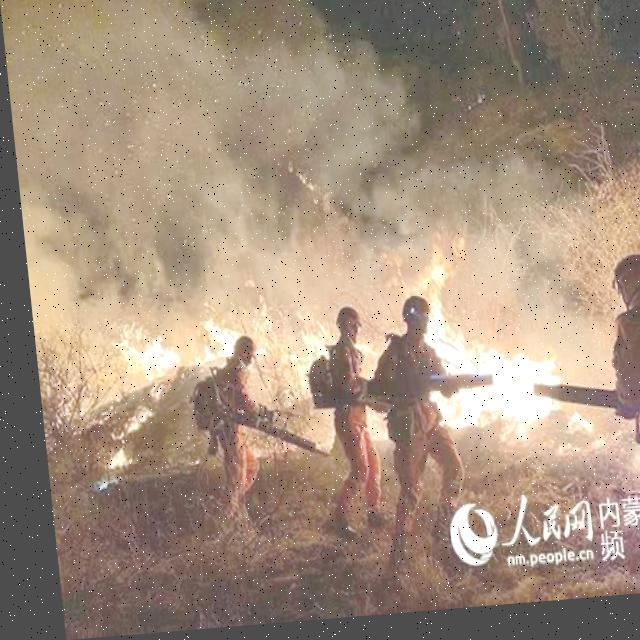Fire: (388, 247, 560, 443), (74, 310, 180, 485), (285, 314, 324, 404), (191, 316, 260, 364)
